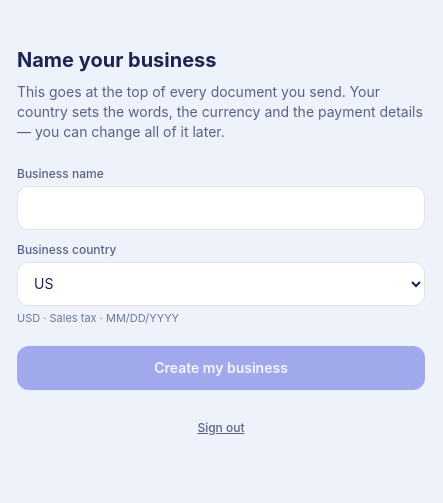
Scenario: The gate follows the session rather than sampling it once › says what went wrong rather than entering an account that cannot read
Type "Sola Ventures" into the field labelled "Business name" at (221, 208), box 17,186 -> 425,230
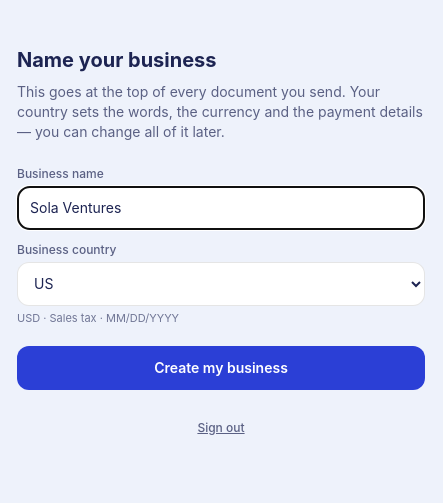
Click the button "Create my business" at (221, 368), box 17,346 -> 425,390
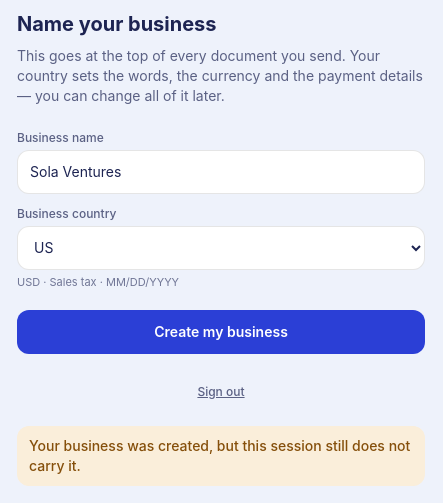
Expected: the message shows "still does not carry it", 29,437 -> 410,474
